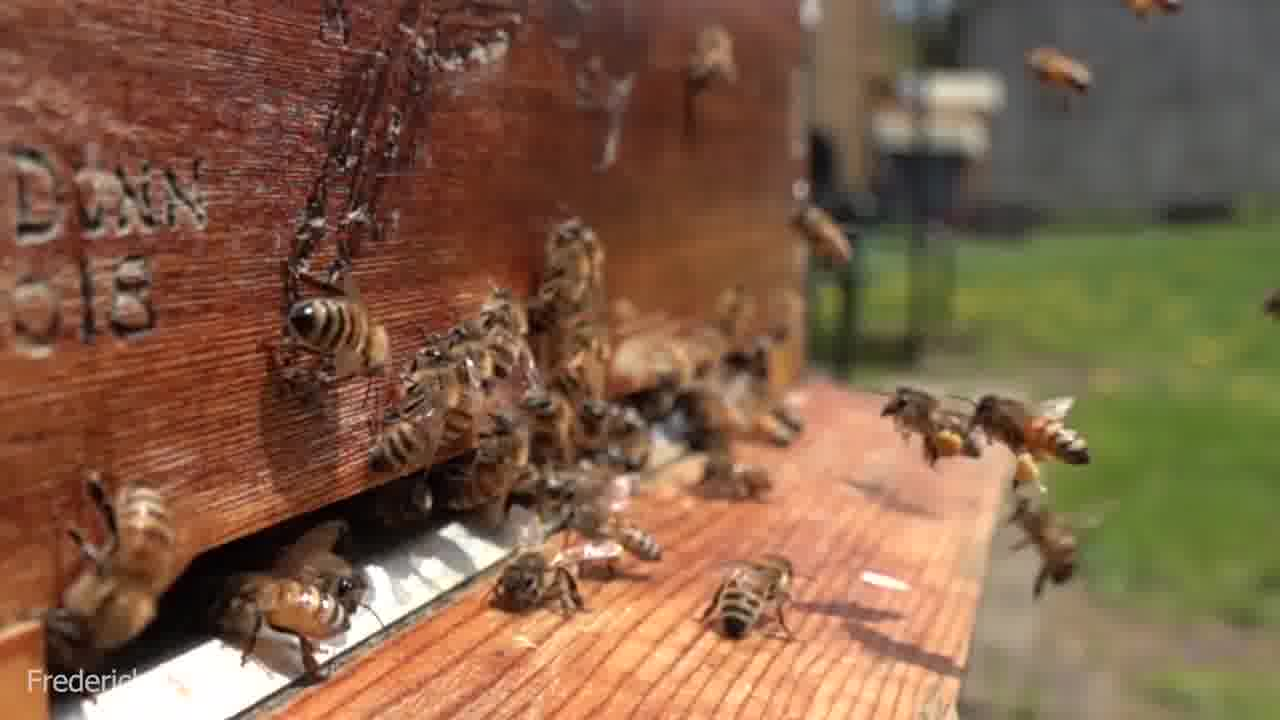pollen: (976, 388, 1099, 495), (877, 379, 989, 466)
